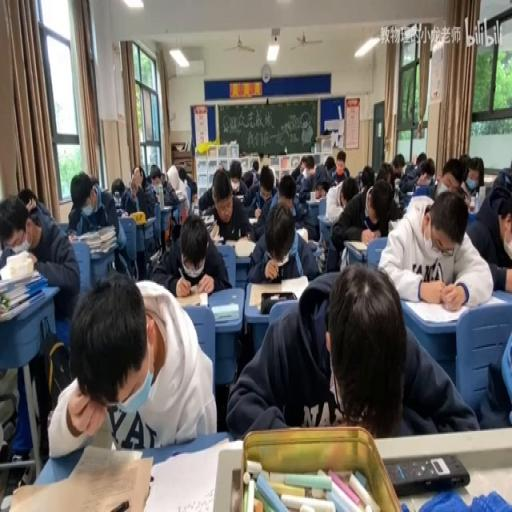calculator: (6, 441, 154, 510), (140, 437, 232, 509), (247, 276, 309, 310), (404, 296, 470, 324), (222, 235, 254, 256), (172, 287, 206, 306), (210, 300, 238, 322), (129, 213, 154, 226), (344, 239, 367, 252), (294, 225, 308, 240), (148, 248, 160, 264), (414, 184, 430, 196), (322, 213, 338, 225), (401, 192, 411, 209), (210, 222, 219, 240), (306, 195, 320, 206), (190, 200, 200, 214), (174, 189, 184, 201), (201, 213, 214, 222), (159, 203, 172, 212), (67, 232, 81, 240), (248, 216, 258, 225), (119, 210, 129, 218), (232, 192, 242, 199), (406, 191, 413, 196)
paper: (226, 266, 472, 439), (50, 269, 212, 455), (378, 186, 492, 308), (1, 189, 81, 334), (68, 169, 128, 283), (150, 209, 228, 296), (245, 196, 318, 283), (330, 174, 394, 256), (476, 317, 510, 428), (197, 162, 245, 215), (130, 165, 158, 219), (305, 155, 334, 196), (488, 162, 510, 209), (239, 165, 261, 210), (464, 155, 483, 199), (179, 165, 197, 202), (332, 151, 350, 183), (160, 179, 179, 208), (278, 174, 296, 204), (18, 188, 38, 213), (341, 182, 357, 208), (378, 162, 395, 186), (390, 154, 405, 179), (120, 189, 135, 213), (360, 164, 374, 189), (111, 178, 125, 199), (259, 179, 272, 198), (458, 152, 468, 174), (414, 151, 426, 168), (180, 194, 189, 216), (424, 159, 434, 178), (290, 165, 300, 183), (403, 161, 415, 176), (136, 170, 145, 188), (394, 179, 400, 206), (260, 154, 270, 168), (327, 168, 336, 180), (252, 158, 259, 171), (300, 163, 306, 175), (218, 160, 224, 170)
person: (386, 452, 470, 495), (230, 468, 242, 510)
